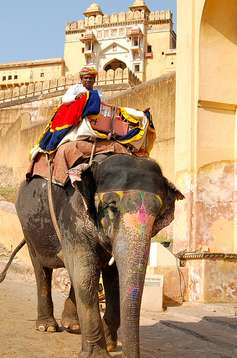person: (72, 90, 110, 126)
